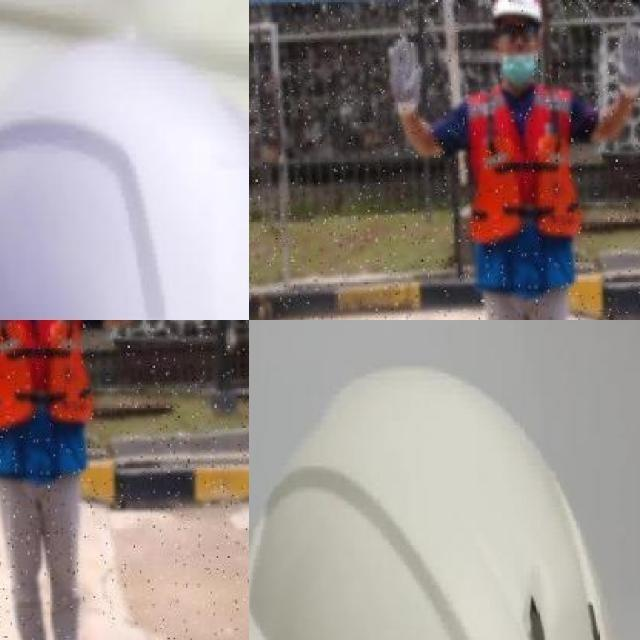apron: (386, 37, 423, 117), (609, 22, 640, 102)
